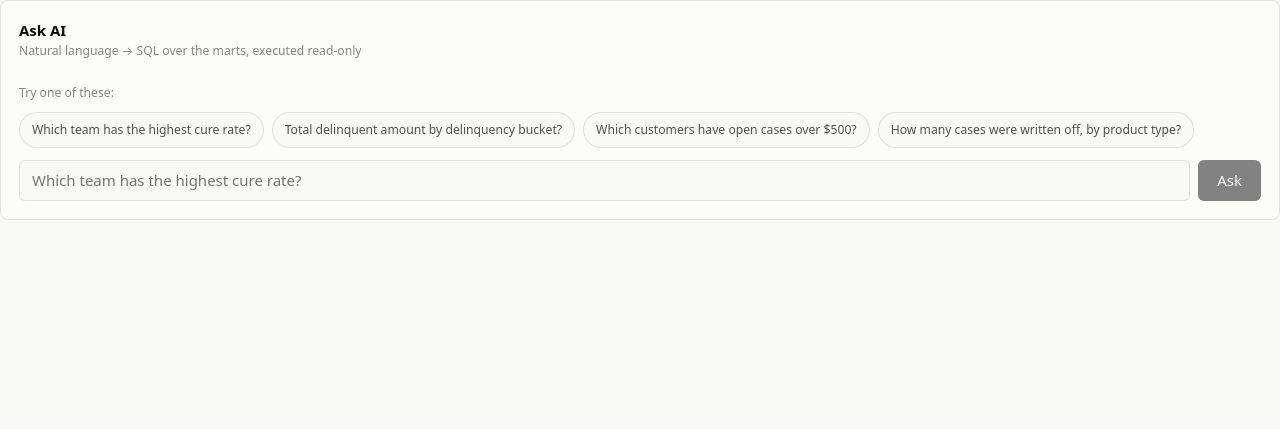
Test: ChatPage › asks the clicked example and shows the reply in the thread
Click the button "Which team has the highest cure rate?" at (141, 130), box top-left (19, 112), bottom-right (264, 148)
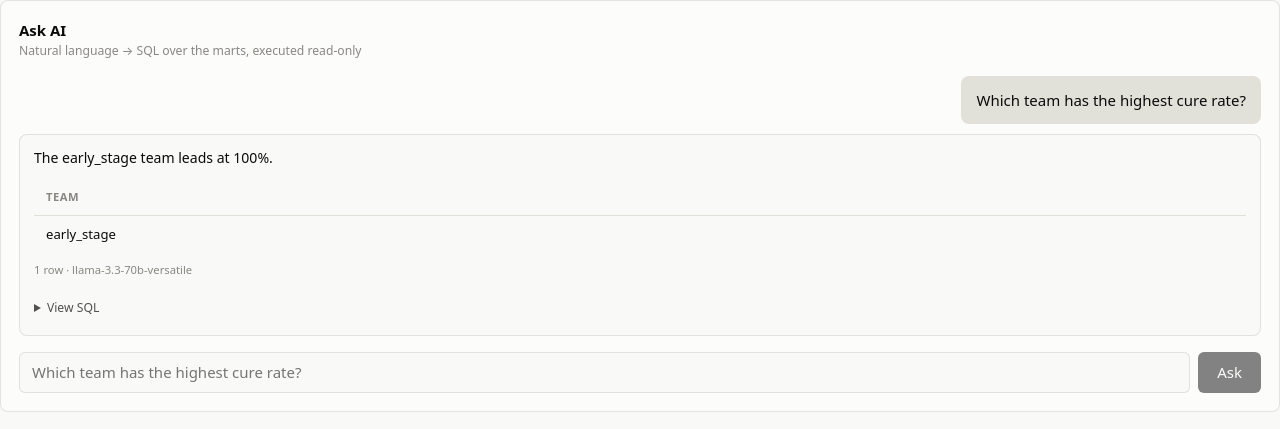
Result: the text "The early_stage team leads at 100%." is shown at top-left (34, 148), bottom-right (273, 167)
Result: the text "Try one of these:" is gone
Result: the number of list items is 1 at top-left (19, 76), bottom-right (1261, 336)
